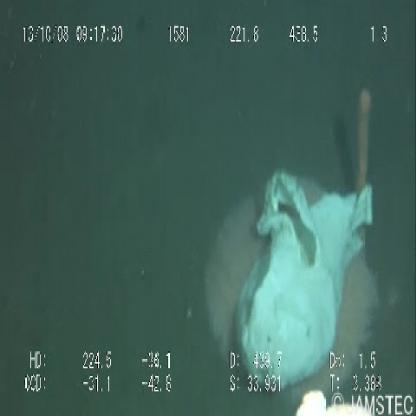Rác: (226, 166, 375, 399)
